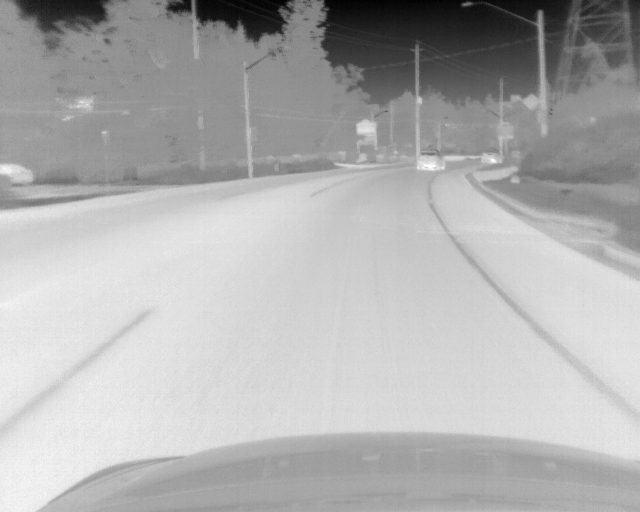car: (1, 164, 35, 184), (416, 149, 446, 171), (481, 149, 502, 165)
